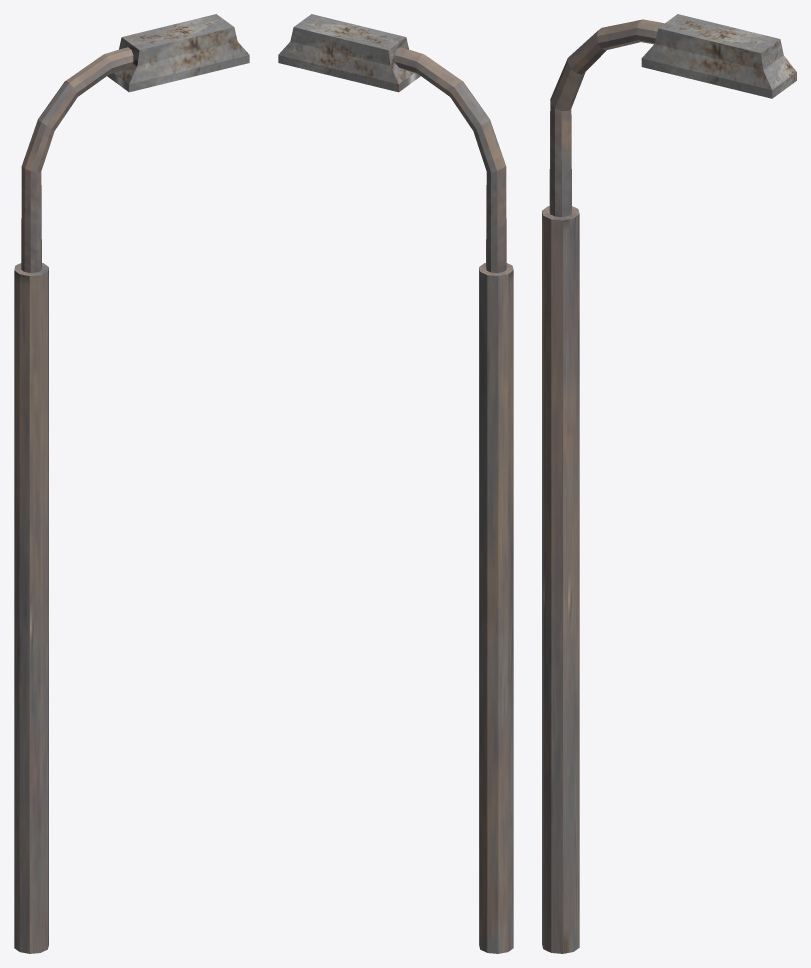
Rendered from lamppost.glb.
3 views of the same model, side by side, from view 1: azimuth 30°, elevation 25°; view 2: azimuth 150°, elevation 25°; view 3: azimuth 330°, elevation 25° (orthographic). The views are drawn at different scales.
Visible parts, largest first — view 1: lamppost; view 2: lamppost; view 3: lamppost.
Part boxes in pixels (x1,y1,x2,y2): lamppost: (14, 14, 249, 953); lamppost: (278, 14, 513, 953); lamppost: (542, 14, 796, 953).
Bounding box in the file's own units: 4.51 × 17.1 × 0.808.
1 material, 1 textured.
